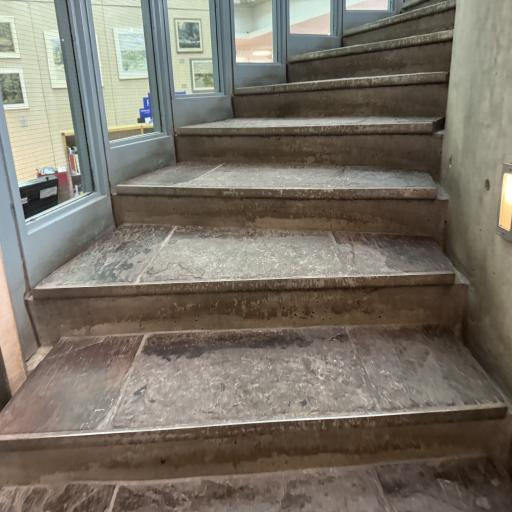Stairs: (0, 1, 510, 512), (0, 325, 507, 484), (30, 224, 466, 344), (0, 458, 512, 512), (114, 162, 448, 240), (175, 116, 444, 178), (233, 72, 448, 118), (287, 30, 453, 82), (342, 0, 456, 47), (400, 0, 446, 14)
